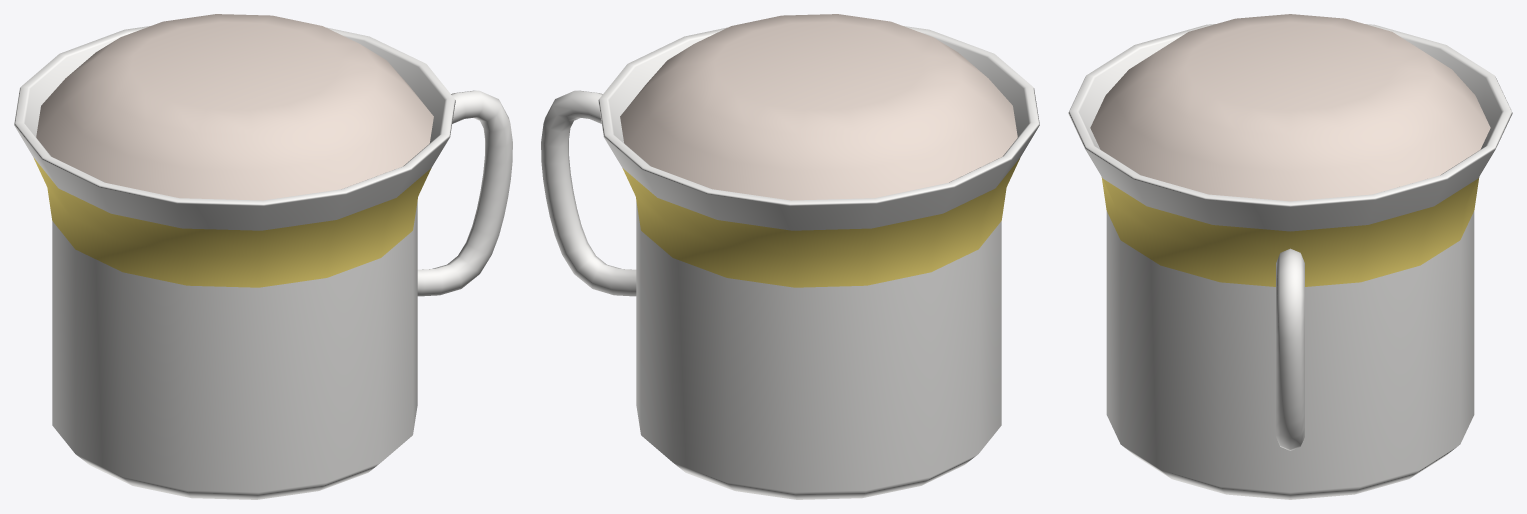
File: Cup_11.glb
The picture shows the model from 3 angles, left to right: view 1: azimuth 30°, elevation 25°; view 2: azimuth 150°, elevation 25°; view 3: azimuth 270°, elevation 25°; orthographic projection.
Parts seen in each view (by area): view 1: Cup_11; view 2: Cup_11; view 3: Cup_11.
Boxes of the visible parts, box(x1,y1,x2,y2) form: Cup_11: box(14, 14, 512, 499); Cup_11: box(541, 14, 1039, 499); Cup_11: box(1068, 14, 1512, 499).
Bounding box in the file's own units: 0.1376 × 0.1017 × 0.1131.
Materials: 1 (1 with a texture image).
